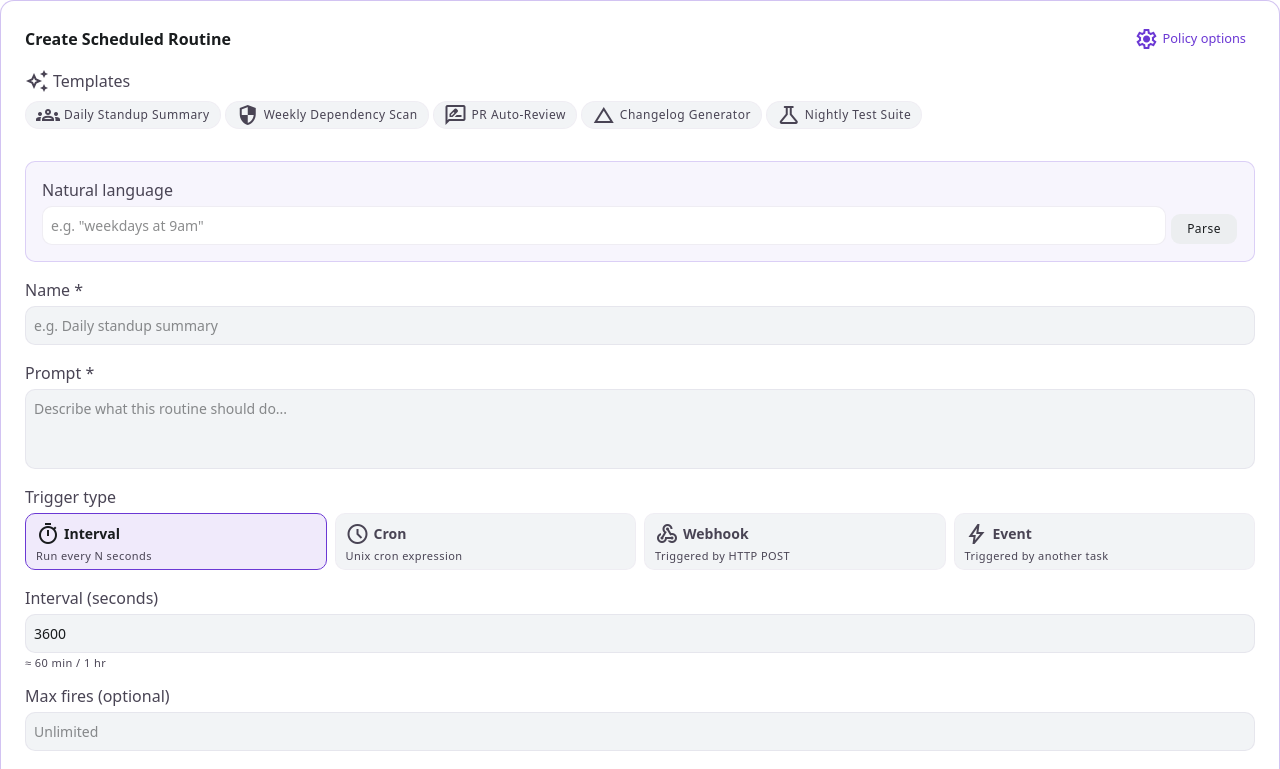
Test: ScheduleForm templates (P3.2) › pre-fills form when template clicked
Step 1. Click the button "Daily Standup Summary" → (123, 115), box [25,101,221,129]
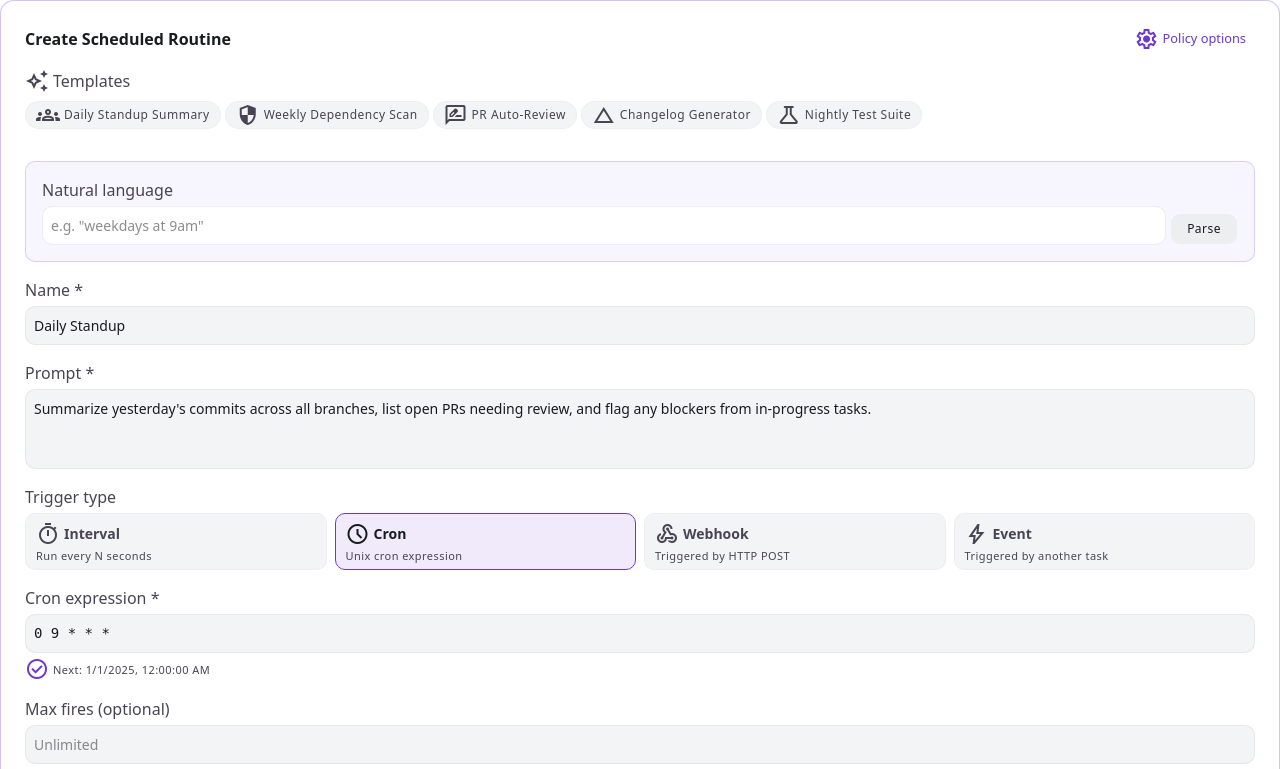
Now the field with placeholder "e.g. Daily standup summary" holds "Daily Standup", box [25,306,1255,345]
Now the field with placeholder "0 9 * * *" holds "0 9 * * *", box [25,614,1255,653]
